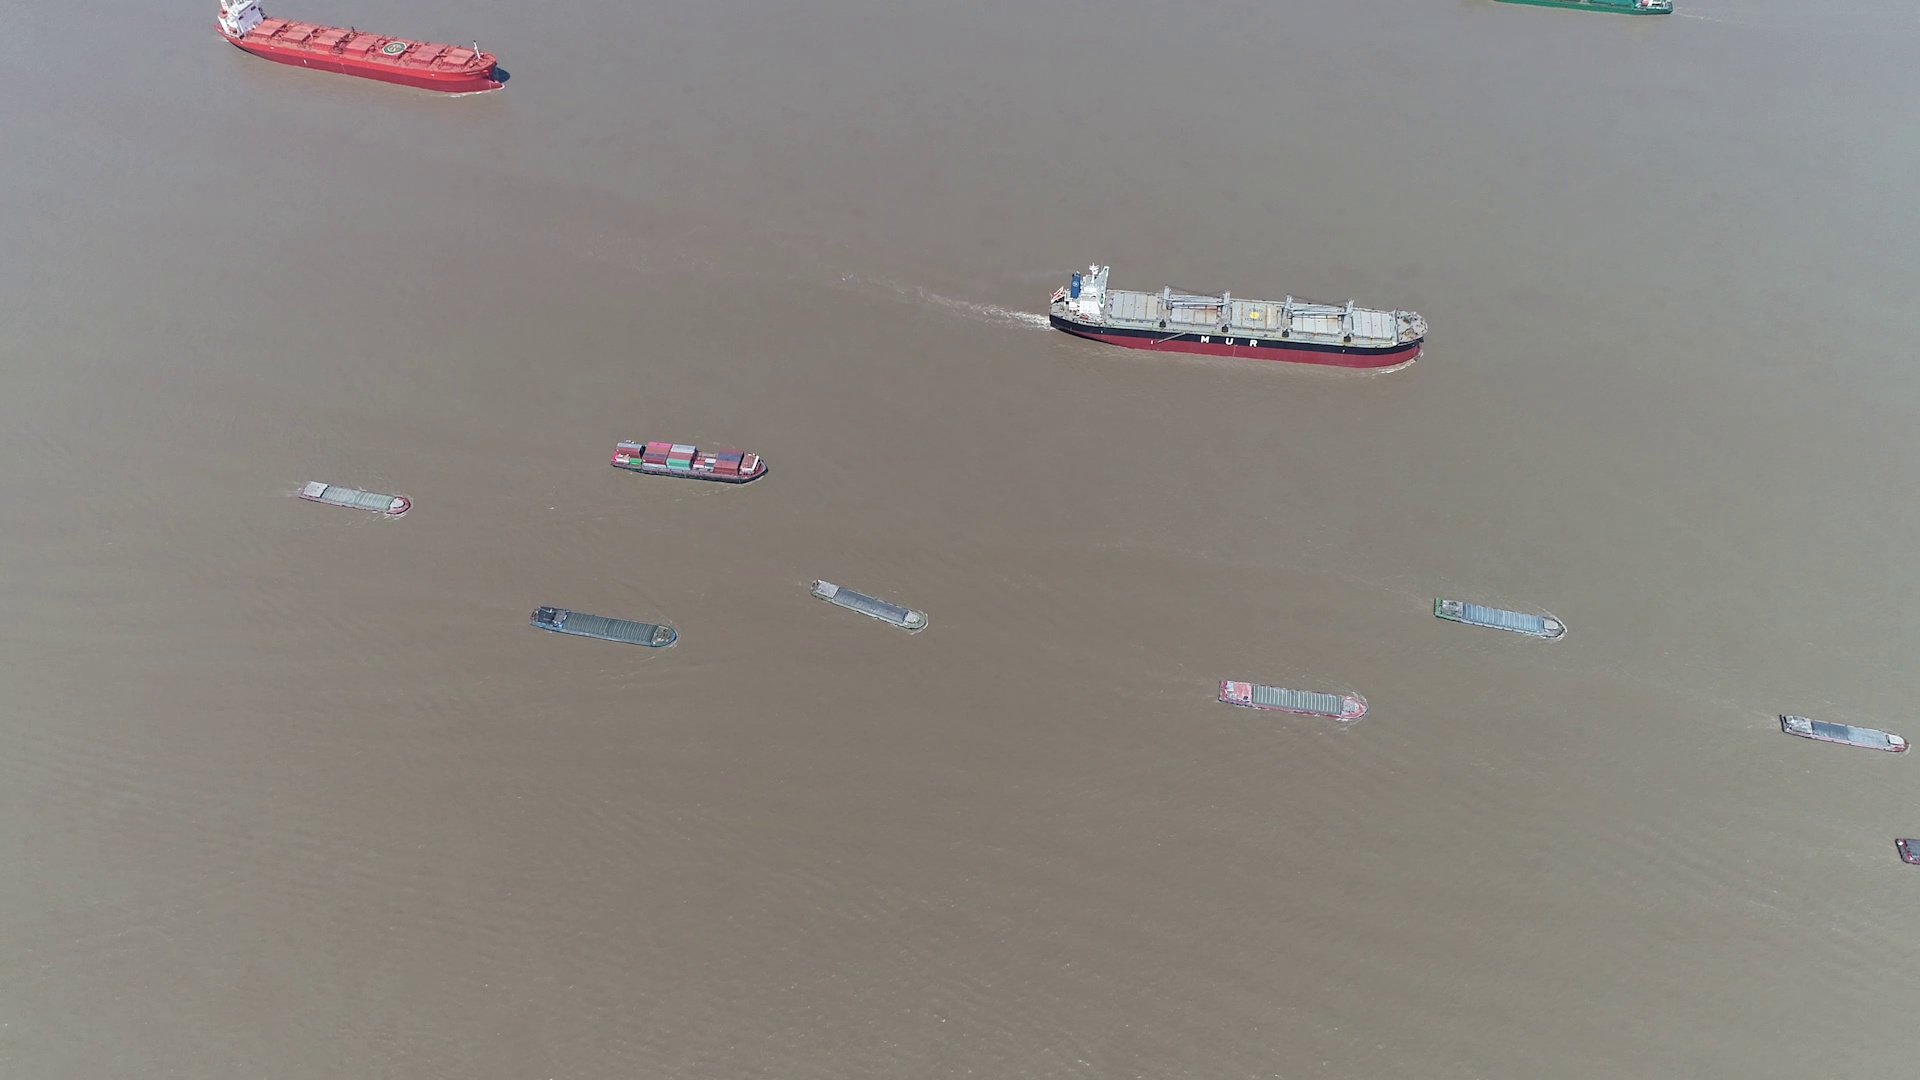ship: (1056, 266, 1428, 367), (214, 0, 510, 95), (612, 439, 767, 484), (1216, 678, 1367, 721), (810, 580, 928, 634), (531, 607, 679, 649), (1433, 597, 1567, 640), (1778, 713, 1908, 754), (295, 479, 411, 516), (1494, 0, 1676, 15), (1896, 837, 1919, 869)
